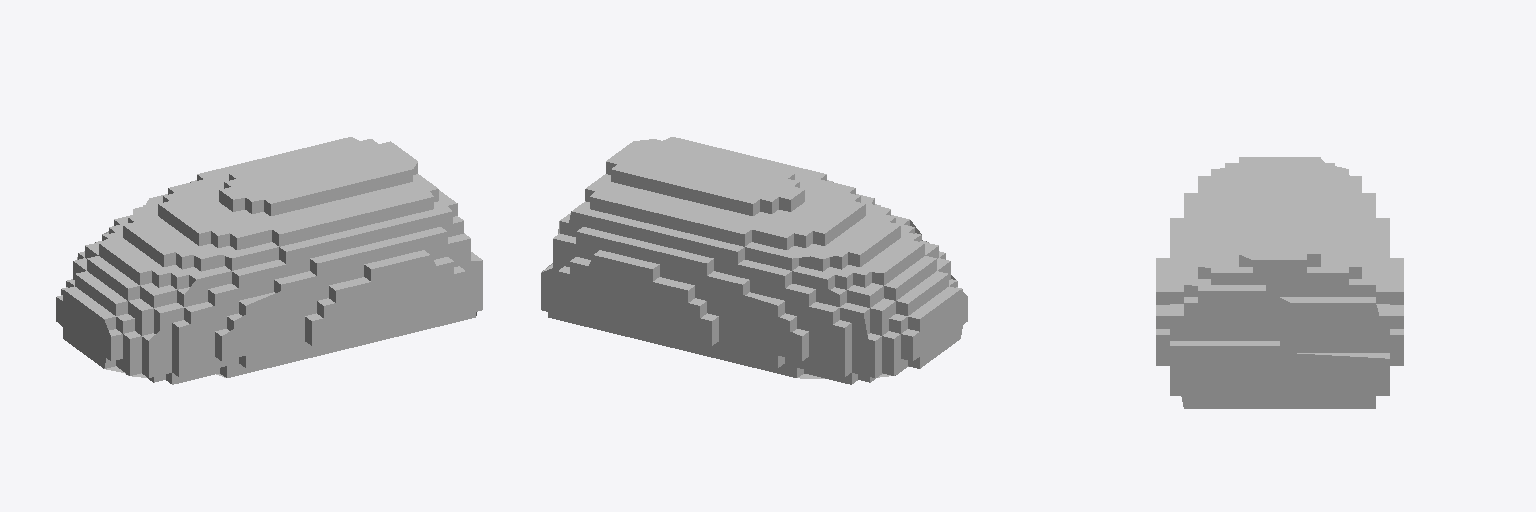
Rendered from Bread_Loaf_3Quarter.obj.
The picture shows the model from 3 angles: view 1: azimuth 30°, elevation 25°; view 2: azimuth 150°, elevation 25°; view 3: azimuth 270°, elevation 25°; orthographic projection.
Parts seen in each view (by area): view 1: Bread_Loaf_3Quarter; view 2: Bread_Loaf_3Quarter; view 3: Bread_Loaf_3Quarter.
Part boxes in pixels (bbox=[...]): Bread_Loaf_3Quarter: bbox=[56, 137, 482, 384]; Bread_Loaf_3Quarter: bbox=[541, 137, 967, 384]; Bread_Loaf_3Quarter: bbox=[1156, 157, 1403, 408].
Bounding box in the file's own units: 0.29 × 0.11 × 0.18.